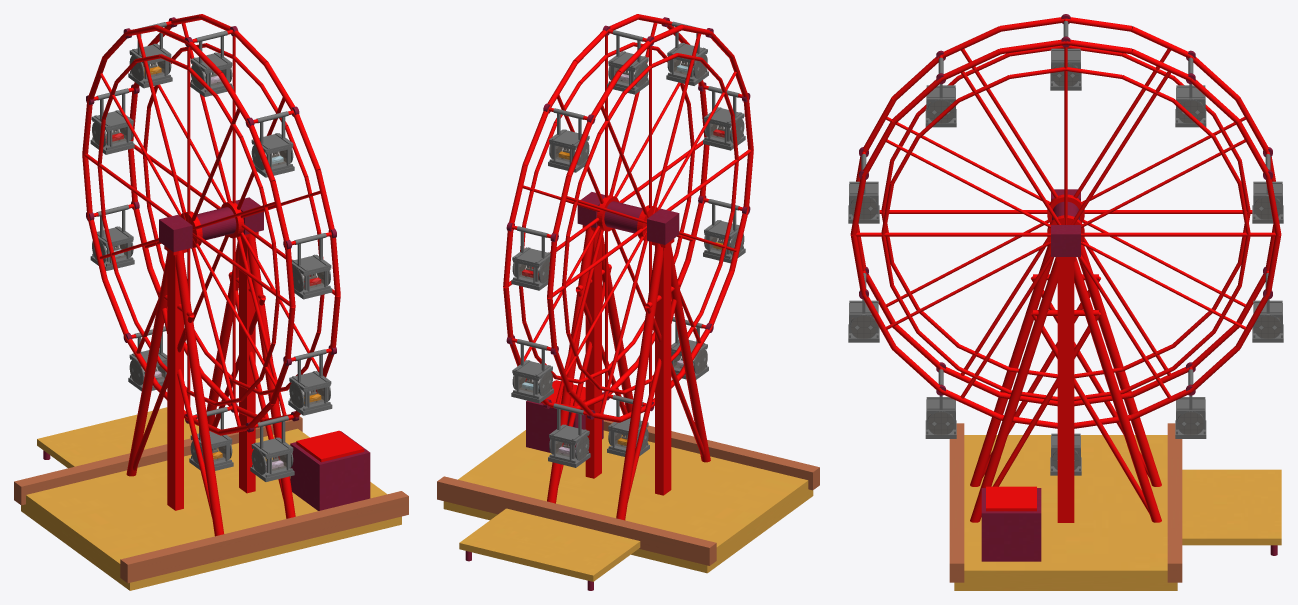
File: ferris_wheel__0003.glb
3 views of the same model, side by side, from view 1: azimuth 30°, elevation 25°; view 2: azimuth 150°, elevation 25°; view 3: azimuth 270°, elevation 25° (orthographic). The views are drawn at different scales.
Parts seen in each view (by area): view 1: support_frame::platform_slab, support_frame::rear_curbstone, support_frame::boarding_bridge, support_frame::drive_house, support_frame::left_hidden_core, support_frame::front_curbstone, support_frame::right_hidden_core, support_frame::left_rear_inclined_leg, support_frame::left_front_inclined_leg, support_frame::right_rear_inclined_leg, support_frame::drive_house_roof, support_frame::right_front_inclined_leg (+17 smaller); view 2: support_frame::platform_slab, support_frame::boarding_bridge, support_frame::front_curbstone, support_frame::left_hidden_core, support_frame::right_hidden_core, support_frame::left_front_inclined_leg, support_frame::rear_curbstone, support_frame::left_rear_inclined_leg, support_frame::right_front_inclined_leg, support_frame::drive_house, support_frame::right_rear_inclined_leg, support_frame::left_bearing_block (+11 smaller); view 3: support_frame::platform_slab, support_frame::boarding_bridge, support_frame::right_hidden_core, support_frame::drive_house, support_frame::right_front_inclined_leg, support_frame::right_rear_inclined_leg, support_frame::front_curbstone, support_frame::rear_curbstone, support_frame::left_front_inclined_leg, support_frame::left_rear_inclined_leg, support_frame::drive_house_roof, support_frame::right_cross_diagonal_a (+27 smaller).
Boxes of the visible parts, bbox=[...] form: support_frame::platform_slab: bbox=[21, 428, 401, 590]; support_frame::rear_curbstone: bbox=[120, 491, 408, 583]; support_frame::boarding_bridge: bbox=[37, 407, 198, 468]; support_frame::drive_house: bbox=[290, 431, 370, 510]; support_frame::left_hidden_core: bbox=[167, 251, 183, 510]; support_frame::front_curbstone: bbox=[14, 416, 302, 505]; support_frame::right_hidden_core: bbox=[239, 236, 255, 493]; support_frame::left_rear_inclined_leg: bbox=[175, 250, 223, 536]; support_frame::left_front_inclined_leg: bbox=[126, 254, 167, 476]; support_frame::right_rear_inclined_leg: bbox=[247, 234, 295, 518]; support_frame::drive_house_roof: bbox=[296, 430, 364, 462]; support_frame::right_front_inclined_leg: bbox=[206, 241, 238, 425]; support_frame::platform_slab: bbox=[443, 430, 813, 573]; support_frame::boarding_bridge: bbox=[459, 508, 640, 581]; support_frame::front_curbstone: bbox=[437, 476, 716, 565]; support_frame::left_hidden_core: bbox=[655, 244, 671, 495]; support_frame::right_hidden_core: bbox=[585, 229, 601, 478]; support_frame::left_front_inclined_leg: bbox=[616, 243, 663, 520]; support_frame::rear_curbstone: bbox=[603, 420, 819, 490]; support_frame::left_rear_inclined_leg: bbox=[671, 247, 710, 462]; support_frame::right_front_inclined_leg: bbox=[547, 227, 593, 503]; support_frame::drive_house: bbox=[526, 380, 603, 452]; support_frame::right_rear_inclined_leg: bbox=[602, 235, 633, 412]; support_frame::left_bearing_block: bbox=[647, 208, 679, 244]; support_frame::platform_slab: bbox=[954, 435, 1177, 590]; support_frame::boarding_bridge: bbox=[1182, 469, 1281, 545]; support_frame::right_hidden_core: bbox=[1057, 261, 1074, 522]; support_frame::drive_house: bbox=[981, 488, 1041, 561]; support_frame::right_front_inclined_leg: bbox=[1074, 257, 1161, 522]; support_frame::right_rear_inclined_leg: bbox=[970, 257, 1057, 522]; support_frame::front_curbstone: bbox=[1167, 423, 1182, 582]; support_frame::rear_curbstone: bbox=[949, 423, 964, 582]; support_frame::left_front_inclined_leg: bbox=[1077, 244, 1161, 486]; support_frame::left_rear_inclined_leg: bbox=[970, 244, 1054, 486]; support_frame::drive_house_roof: bbox=[986, 486, 1036, 511]; support_frame::right_cross_diagonal_a: bbox=[1031, 312, 1149, 513].
Bounding box in the file's own units: 1.34 × 2.22 × 1.76.
10 materials, 4 textured.
